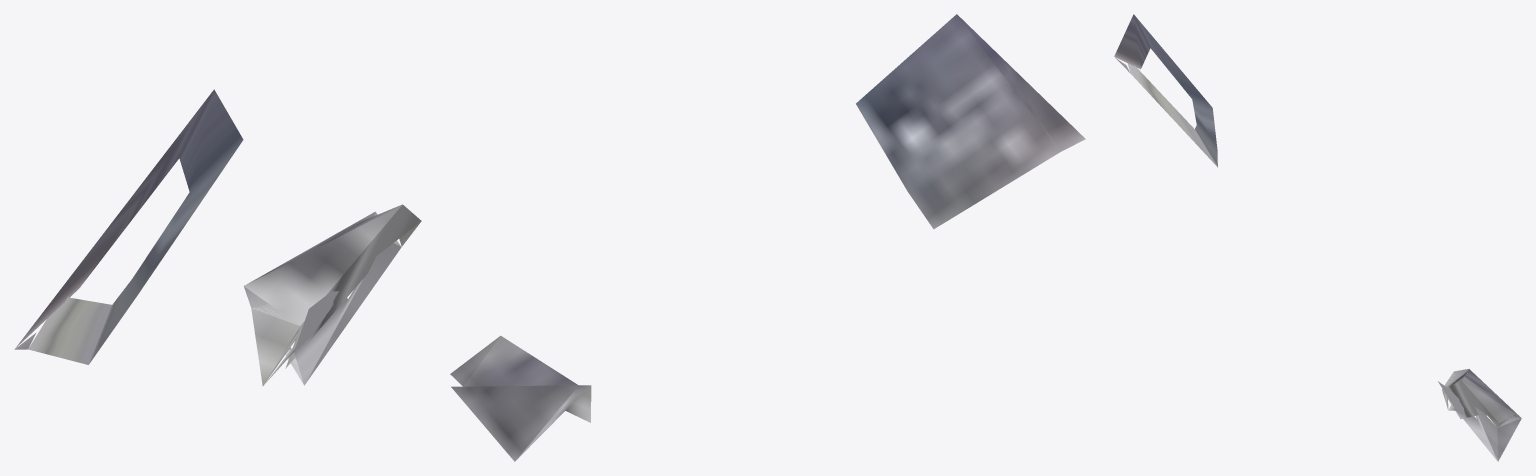
3 views of the same model, side by side, from view 1: azimuth 30°, elevation 25°; view 2: azimuth 150°, elevation 25°; view 3: azimuth 270°, elevation 25° (orthographic). The views are drawn at different scales.
Size of the model in its own units: 23.95 by 19.46 by 21.34.
1 material, 1 textured.
